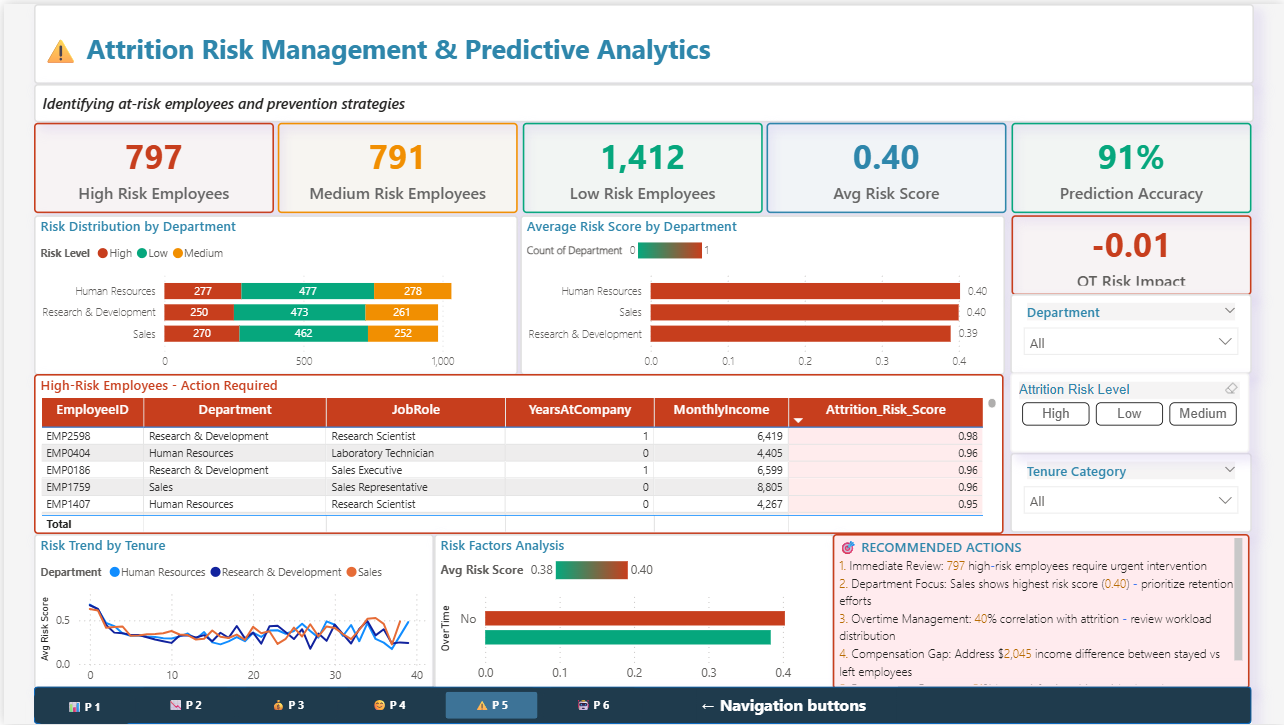

This screenshot's page, from the dashboard's own definition file:
{"tool":"powerbi","page":{"name":"Risk Management","canvas":[1280,720],"ordinal":4},"visuals":[{"type":"textbox","box":[30,0,1220,80],"z":0},{"type":"textbox","box":[30.3,80,1219.6,38],"z":1000},{"type":"card","fields":{"Values":["06. Risk Analysis.High Risk Employees"]},"box":[30,119,240,90],"z":2000},{"type":"card","fields":{"Values":["06. Risk Analysis.Medium Risk Employees"]},"box":[274.2,119,240,90],"z":3000},{"type":"card","fields":{"Values":["06. Risk Analysis.Low Risk Employees"]},"box":[518.5,119,240,90],"z":4000},{"type":"card","fields":{"Values":["06. Risk Analysis.Avg Risk Score"]},"box":[762.8,119,240,90],"z":5000},{"type":"card","fields":{"Values":["06. Risk Analysis.Prediction Accuracy"]},"box":[1007,119,240,90],"z":6000},{"type":"barChart","title":"Risk Distribution by Department","fields":{"Category":["HR_Analytics_Enhanced.Department"],"Y":["01. Basic KPIs.Total Employees"],"Series":["HR_Analytics_Enhanced.Attrition_Risk_Level"]},"box":[30.3,210.9,483.7,160],"z":7000},{"type":"clusteredBarChart","title":"Average Risk Score by Department","fields":{"Category":["HR_Analytics_Enhanced.Department"],"Y":["06. Risk Analysis.Avg Risk Score"]},"box":[516.5,210.9,485,160],"z":8000},{"type":"tableEx","title":"High-Risk Employees - Action Required","fields":{"Values":["HR_Analytics_Enhanced.EmployeeID","HR_Analytics_Enhanced.Department","HR_Analytics_Enhanced.JobRole","HR_Analytics_Enhanced.YearsAtCompany","HR_Analytics_Enhanced.MonthlyIncome","HR_Analytics_Enhanced.Attrition_Risk_Score"]},"box":[30,369.7,969.9,160],"z":9000},{"type":"lineChart","title":"Risk Trend by Tenure","fields":{"Category":["HR_Analytics_Enhanced.YearsAtCompany"],"Y":["06. Risk Analysis.Avg Risk Score"],"Series":["HR_Analytics_Enhanced.Department"]},"box":[30,529.6,400,155],"z":10000},{"type":"clusteredBarChart","title":"Risk Factors Analysis","fields":{"Y":["06. Risk Analysis.Avg Risk Score"],"Category":["HR_Analytics_Enhanced.OverTime"]},"box":[429.7,529.6,400,155],"z":11000},{"type":"card","fields":{"Values":["06. Risk Analysis.OT Risk Impact"]},"box":[1007,211,240,80],"z":12000},{"type":"slicer","fields":{"Values":["HR_Analytics_Enhanced.Department"]},"box":[1006.2,290.2,241.2,80],"z":13000},{"type":"slicer","fields":{"Values":["HR_Analytics_Enhanced.Tenure_Category"]},"box":[1005.9,448.5,241.2,80],"z":14000},{"type":"textbox","box":[828.7,529.5,416.7,155],"z":15000},{"type":"ChicletSlicer1448559807354","fields":{"Category":["HR_Analytics_Enhanced.Attrition_Risk_Level"]},"box":[1005.7,369.3,239,80],"z":21001},{"type":"shape","box":[30,682.5,1217.5,37.5],"z":21002},{"type":"textbox","box":[692.5,685,200,33],"z":21003},{"type":"actionButton","box":[30,685,100,35],"z":21004},{"type":"actionButton","box":[131.8,684,100,35],"z":21005},{"type":"actionButton","box":[233.5,684,100,35],"z":21006},{"type":"actionButton","box":[335.2,684,100,35],"z":21007},{"type":"actionButton","box":[437,684,100,35],"z":21008},{"type":"actionButton","box":[538.8,683.8,100,35],"z":21009}]}

Visuals, with their boxes in screenshot pixels (x1, y1, x2, y2), scaled from the page's 1280x720 canvas onto the 1284x725 screenshot:
textbox: Rect(30, 0, 1254, 81)
textbox: Rect(30, 81, 1254, 119)
card - 06. Risk Analysis.High Risk Employees: Rect(30, 120, 271, 210)
card - 06. Risk Analysis.Medium Risk Employees: Rect(275, 120, 516, 210)
card - 06. Risk Analysis.Low Risk Employees: Rect(520, 120, 761, 210)
card - 06. Risk Analysis.Avg Risk Score: Rect(765, 120, 1006, 210)
card - 06. Risk Analysis.Prediction Accuracy: Rect(1010, 120, 1251, 210)
"Risk Distribution by Department" barChart: Rect(30, 212, 516, 373)
"Average Risk Score by Department" clusteredBarChart: Rect(518, 212, 1005, 373)
"High-Risk Employees - Action Required" tableEx: Rect(30, 372, 1003, 533)
"Risk Trend by Tenure" lineChart: Rect(30, 533, 431, 689)
"Risk Factors Analysis" clusteredBarChart: Rect(431, 533, 832, 689)
card - 06. Risk Analysis.OT Risk Impact: Rect(1010, 212, 1251, 293)
slicer - HR_Analytics_Enhanced.Department: Rect(1009, 292, 1251, 373)
slicer - HR_Analytics_Enhanced.Tenure_Category: Rect(1009, 452, 1251, 532)
textbox: Rect(831, 533, 1249, 689)
ChicletSlicer1448559807354 - HR_Analytics_Enhanced.Attrition_Risk_Level: Rect(1009, 372, 1249, 452)
shape: Rect(30, 687, 1251, 724)
textbox: Rect(695, 690, 895, 723)
actionButton: Rect(30, 690, 130, 724)
actionButton: Rect(132, 689, 233, 724)
actionButton: Rect(234, 689, 335, 724)
actionButton: Rect(336, 689, 437, 724)
actionButton: Rect(438, 689, 539, 724)
actionButton: Rect(540, 689, 641, 724)
